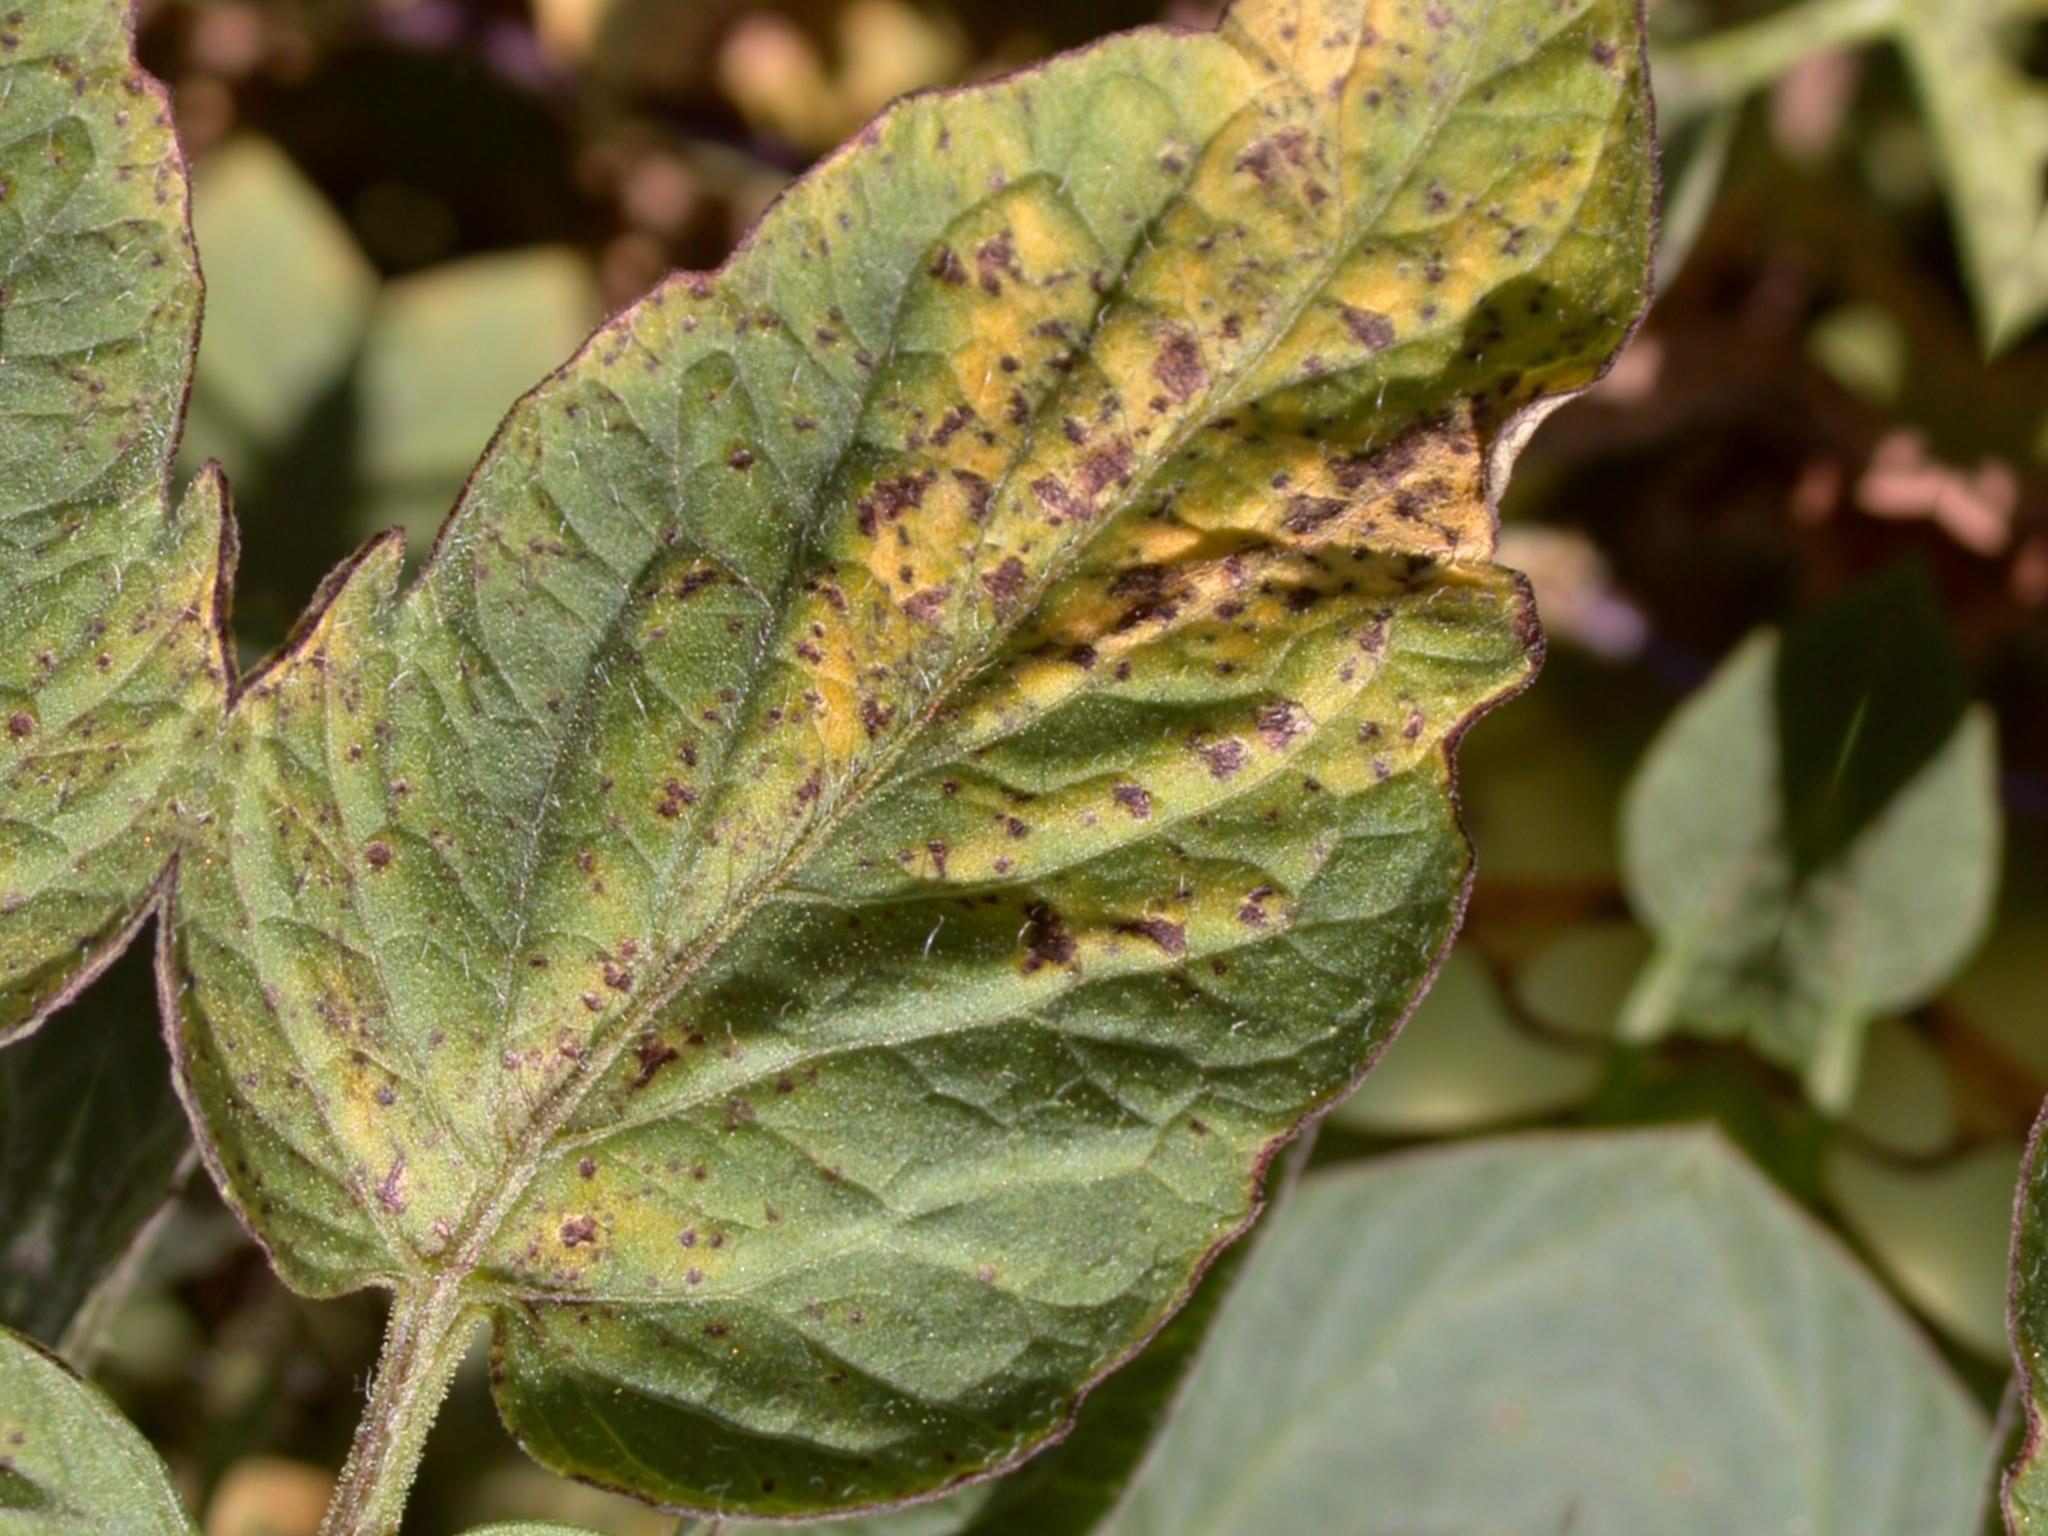Tomato leaf bacterial spot: (44, 0, 1775, 1536)
